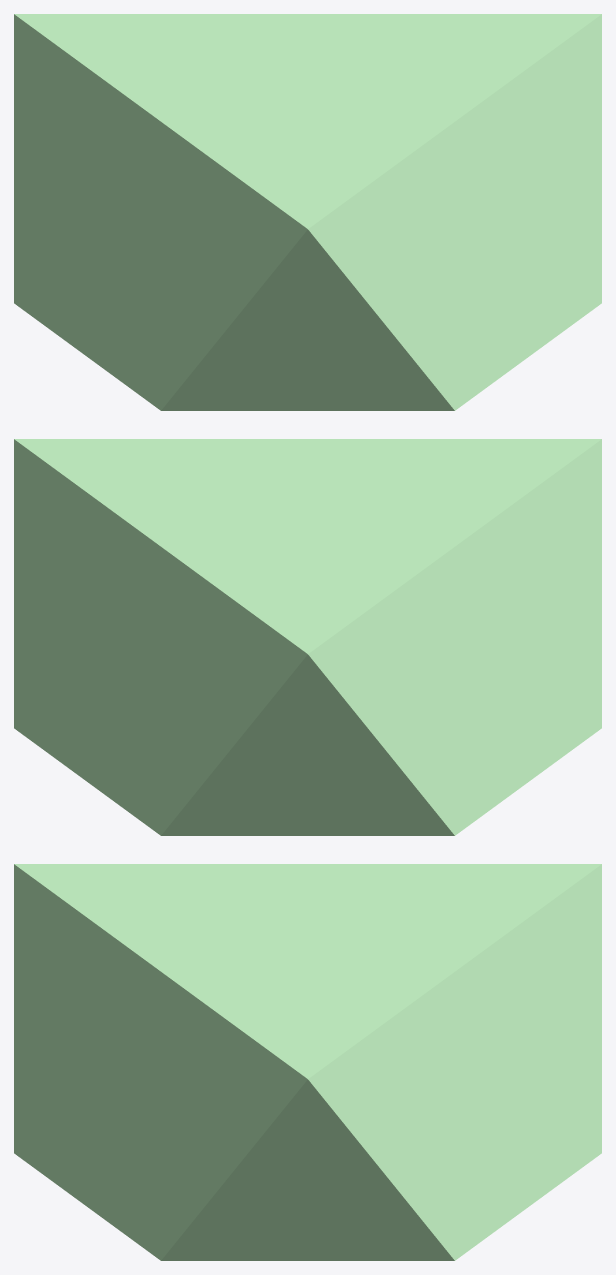
3 renders of one model, top to bottom at view 1: azimuth 30°, elevation 25°; view 2: azimuth 150°, elevation 25°; view 3: azimuth 270°, elevation 25°, orthographic.
Visible parts, largest first — view 1: Group1; view 2: Group1; view 3: Group1.
Part boxes in pixels (bbox=[...]): Group1: bbox=[14, 14, 601, 410]; Group1: bbox=[14, 439, 601, 835]; Group1: bbox=[14, 864, 601, 1260].
Bounding box in the file's own units: 8.08 × 3.26 × 8.
